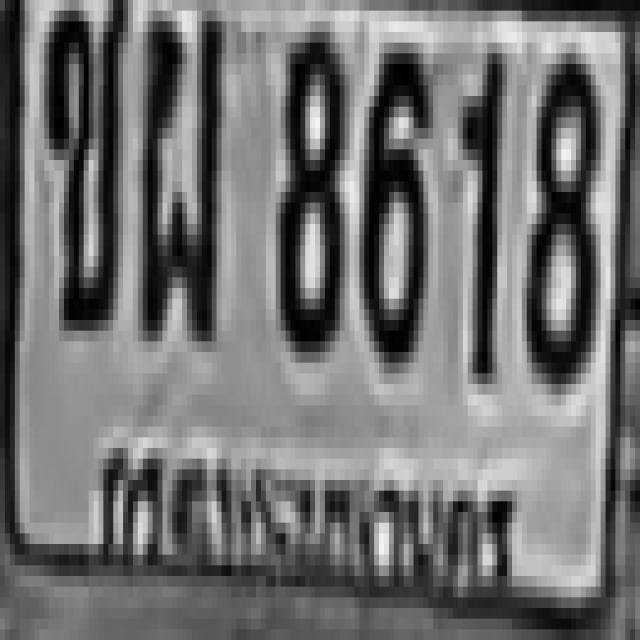1: (458, 43, 502, 373)
19ChorChang: (39, 0, 123, 320)
37PhorPhueng: (133, 0, 221, 331)
6: (359, 32, 428, 352)
8: (522, 43, 596, 373), (276, 21, 340, 342)
Bangkok: (66, 418, 528, 632)
